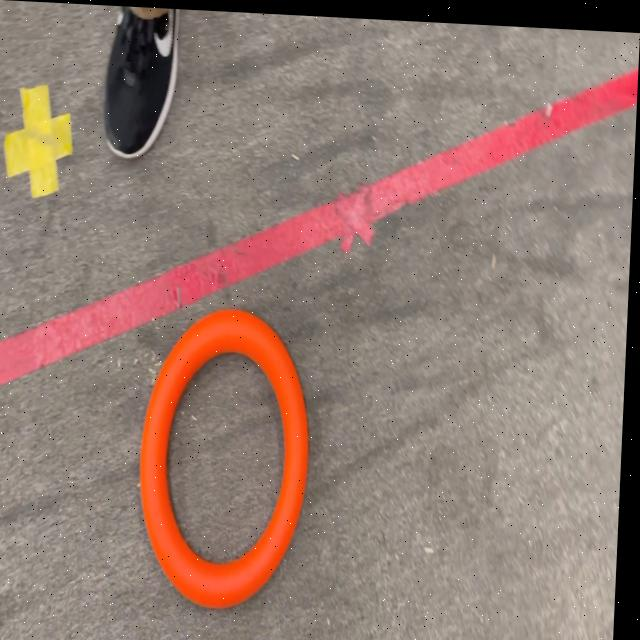note: (140, 303, 318, 608)
